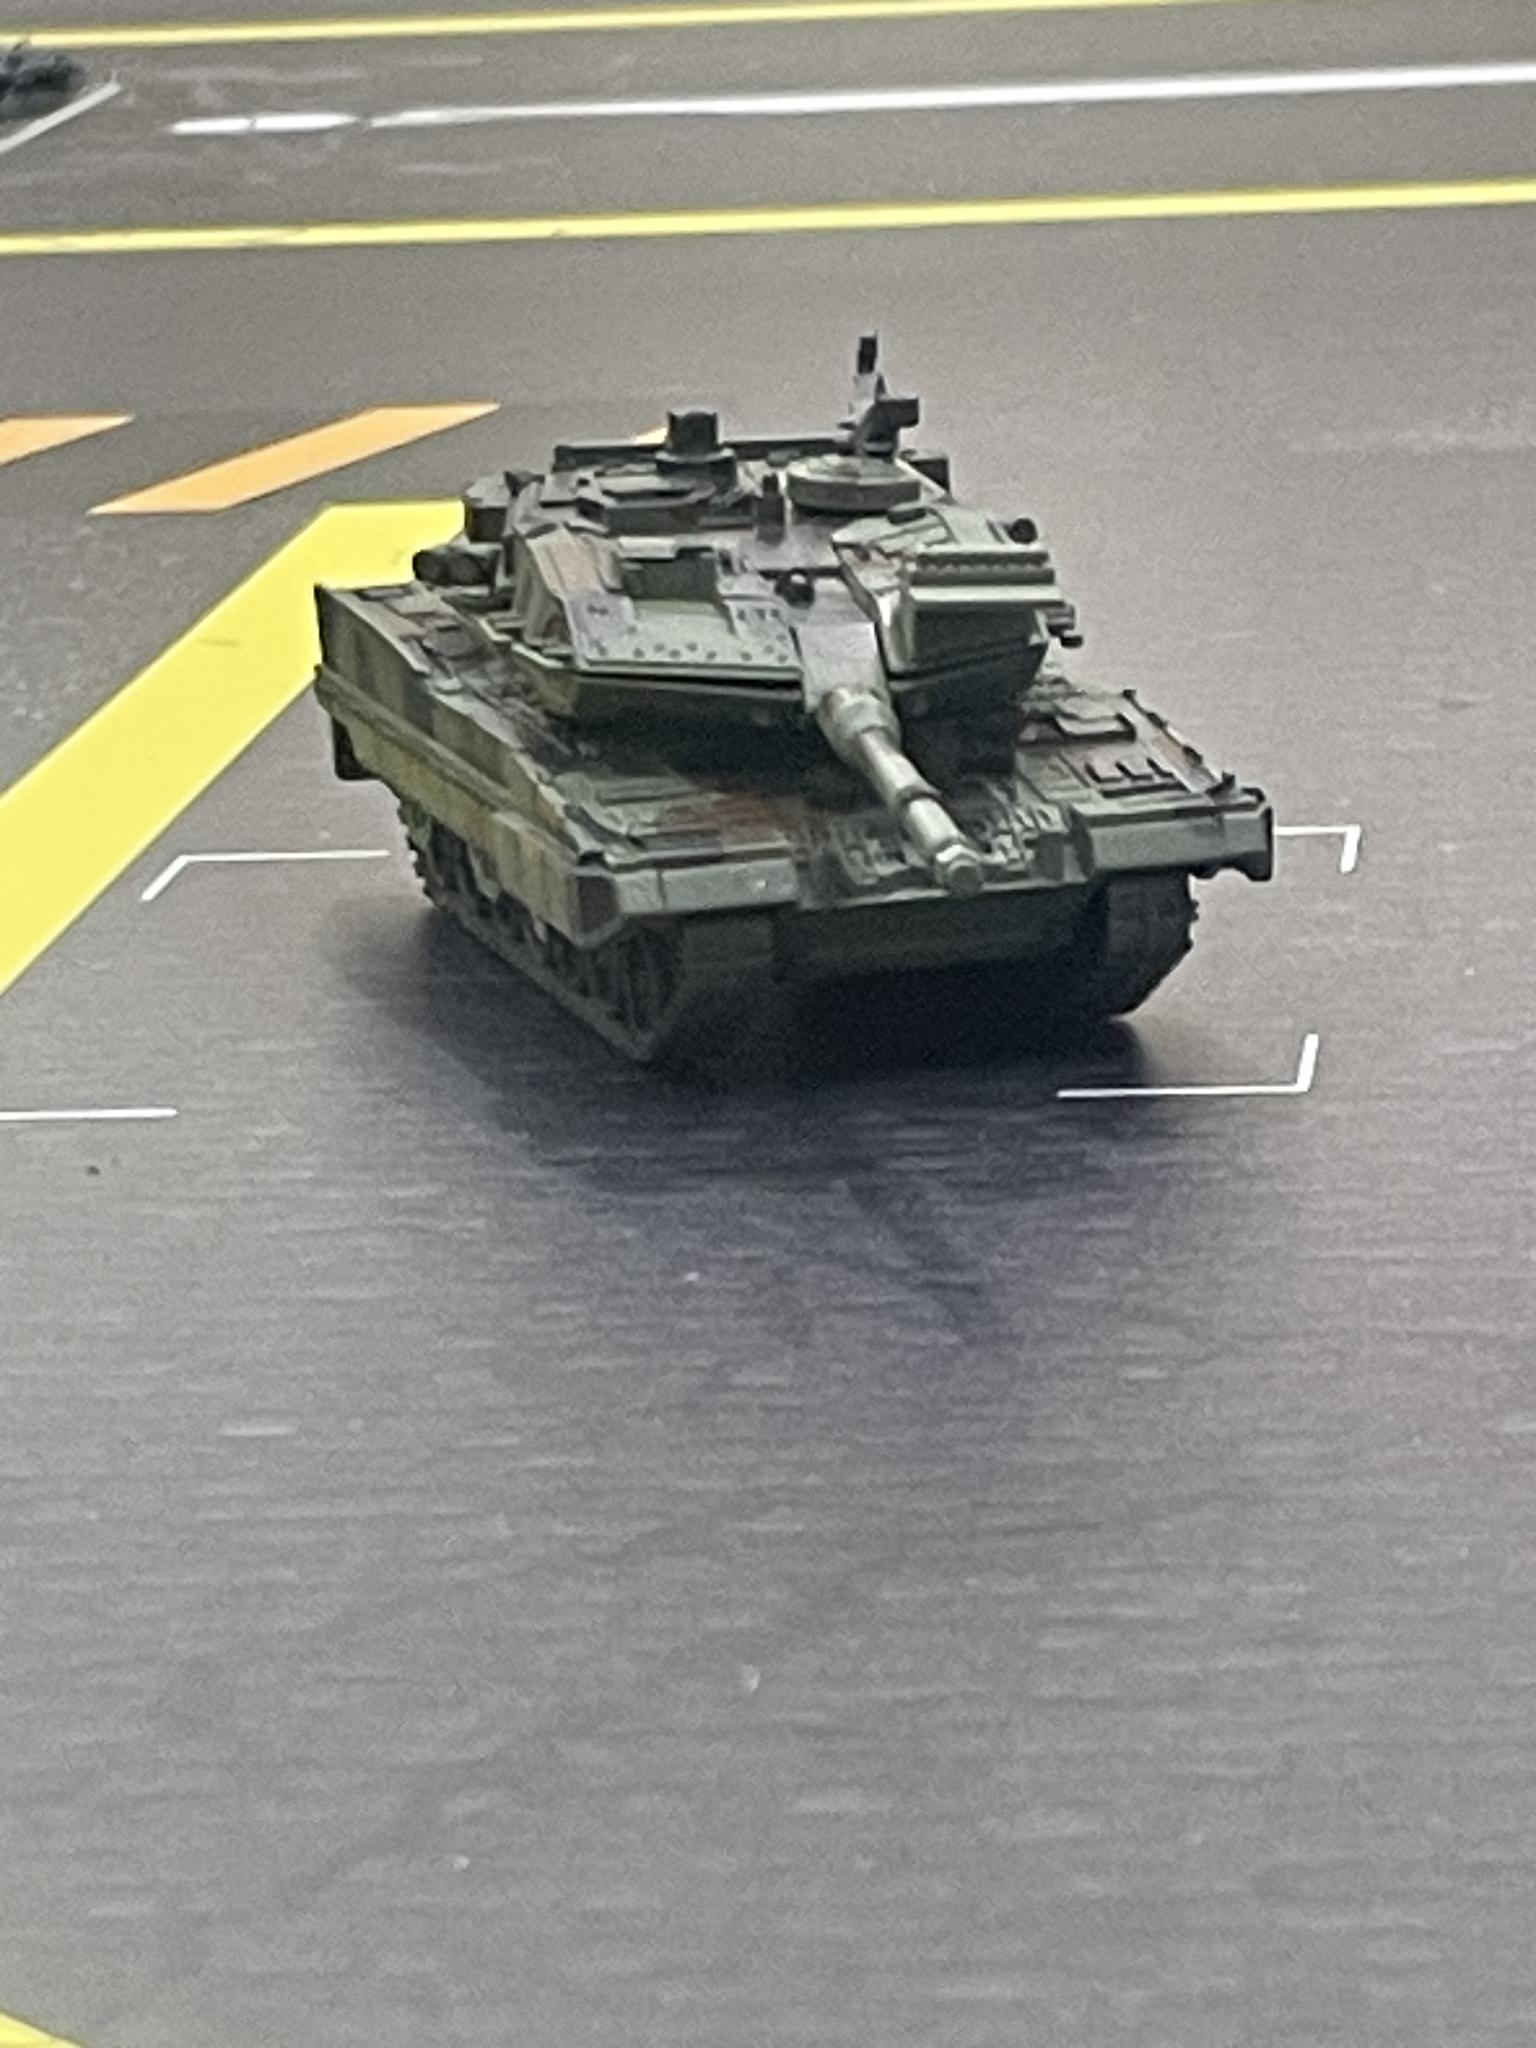Tank: (305, 323, 1284, 1097)
